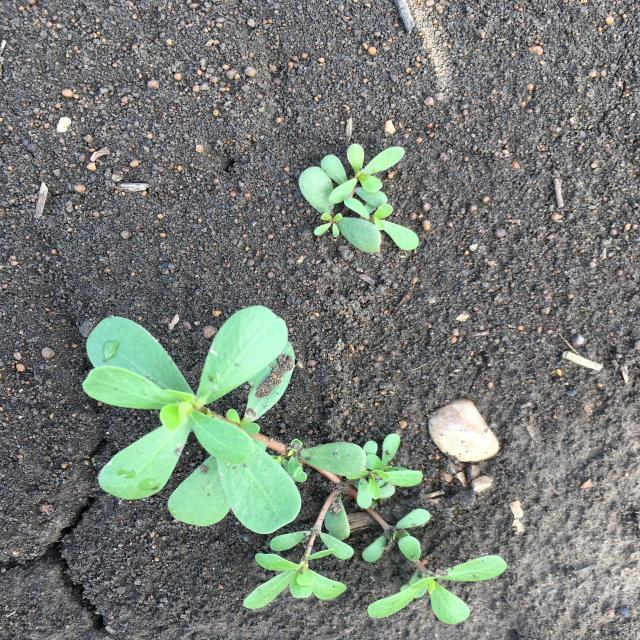Purslane: (82, 306, 508, 624), (298, 144, 419, 254)
